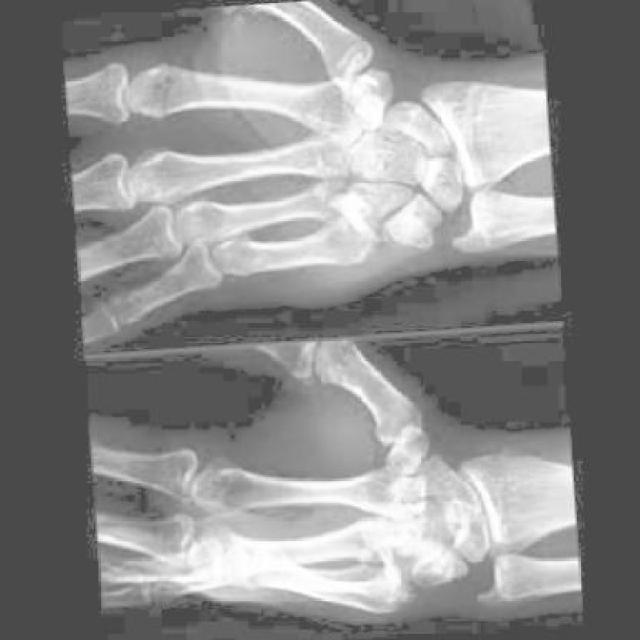Fracture: (325, 190, 399, 264), (362, 542, 431, 616)
